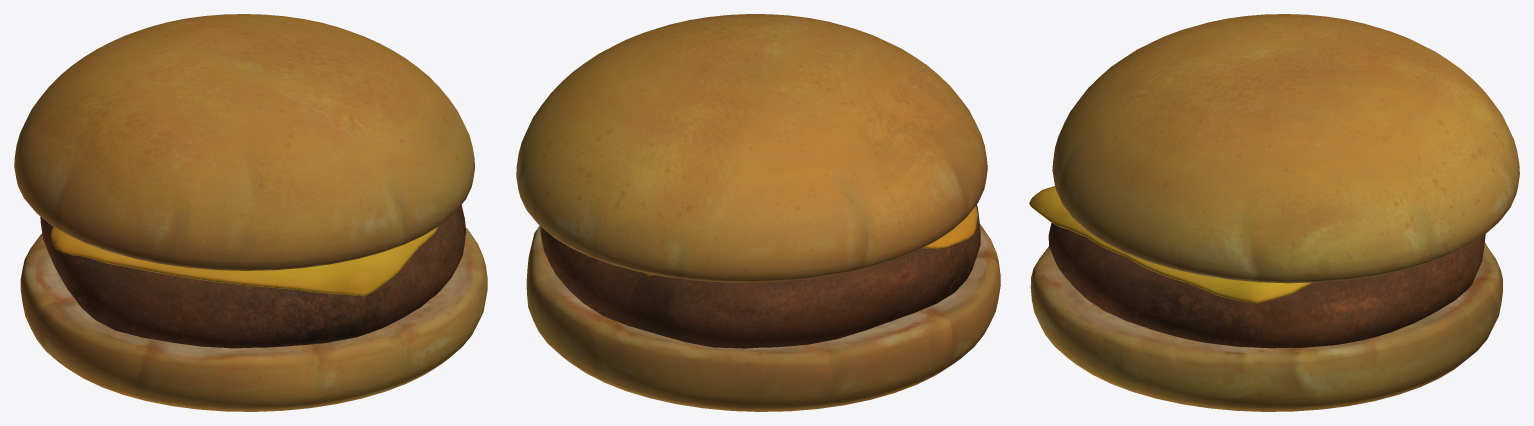
File: burger.glb
The picture shows the model from 3 angles, left to right: view 1: azimuth 30°, elevation 25°; view 2: azimuth 150°, elevation 25°; view 3: azimuth 270°, elevation 25°; orthographic projection. The views are drawn at different scales.
Parts seen in each view (by area): view 1: node_id105, node_id117, node_id115, node_id113; view 2: node_id105, node_id117, node_id115, node_id113; view 3: node_id105, node_id117, node_id115, node_id113.
Boxes of the visible parts, x1,y1,x2,y2 form: node_id105: (14, 14, 474, 270); node_id117: (20, 227, 487, 411); node_id115: (40, 205, 465, 348); node_id113: (50, 226, 438, 296); node_id105: (516, 14, 987, 282); node_id117: (526, 224, 1000, 411); node_id115: (540, 204, 980, 348); node_id113: (645, 206, 977, 275); node_id105: (1052, 14, 1519, 283); node_id117: (1030, 242, 1502, 411); node_id115: (1048, 222, 1485, 348); node_id113: (1029, 186, 1312, 303).
Bounding box in the file's own units: 0.1618 × 0.1013 × 0.1653.
6 materials, 6 textured.
